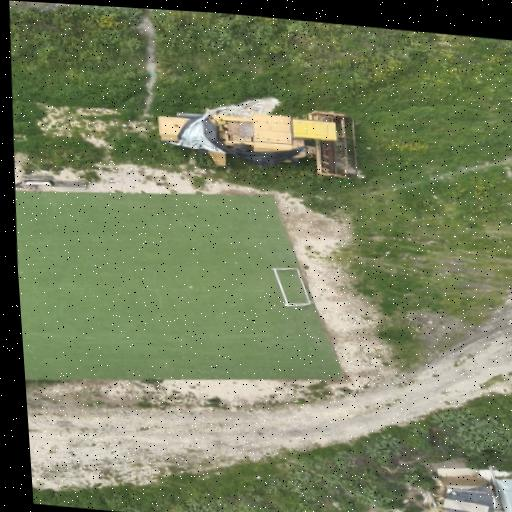harvester: (157, 111, 356, 177)
